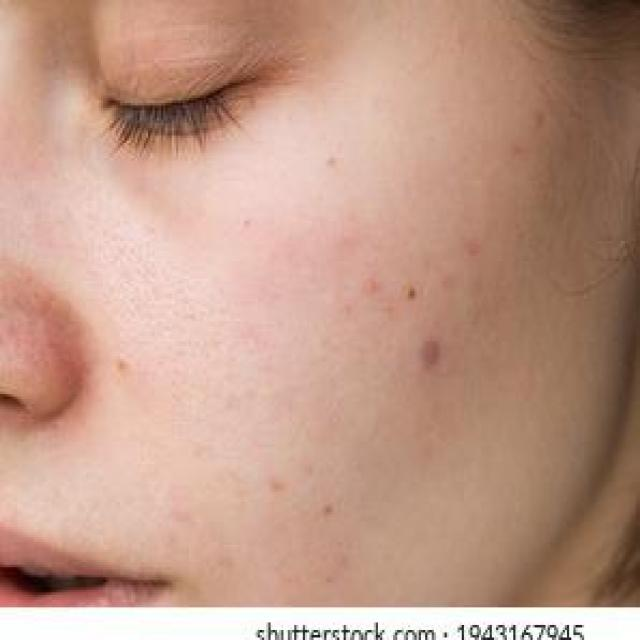blackheads: (419, 336, 440, 364), (116, 356, 131, 379), (268, 474, 284, 492), (404, 286, 416, 301), (322, 502, 333, 517), (329, 148, 337, 166)
